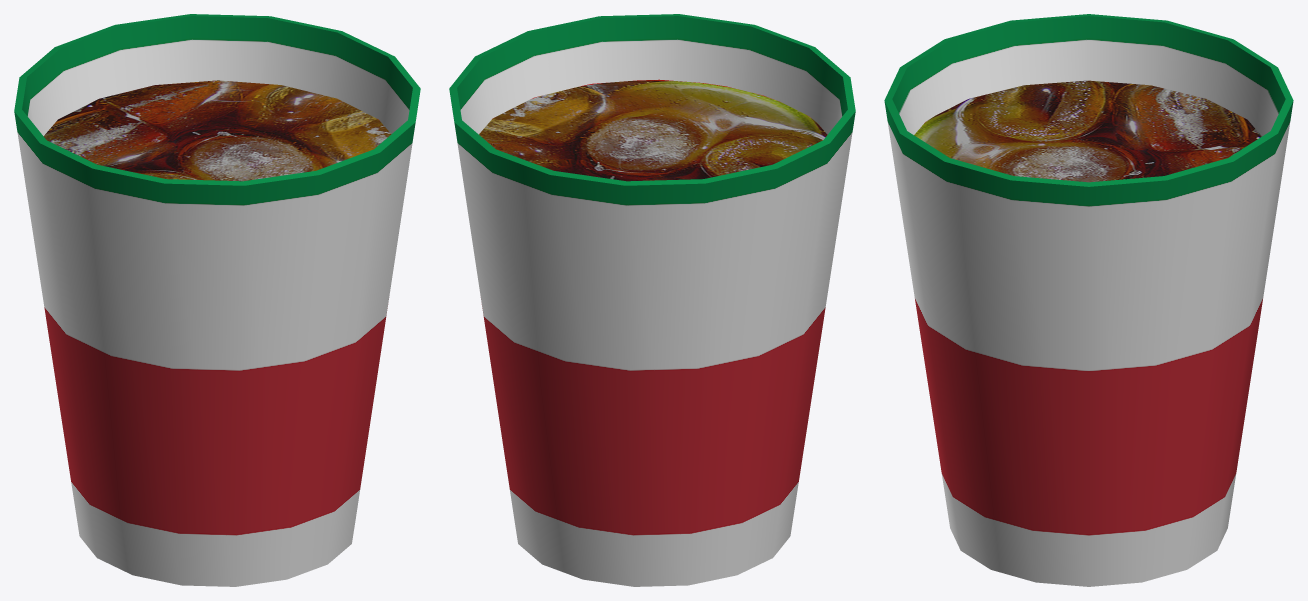
The model's file is paper cup.FBX.
The picture shows the model from 3 angles, left to right: view 1: azimuth 30°, elevation 25°; view 2: azimuth 150°, elevation 25°; view 3: azimuth 270°, elevation 25°; orthographic projection.
Visible parts, largest first — view 1: paper cup; view 2: paper cup; view 3: paper cup.
Part boxes in pixels (left/top/right/bottom): paper cup: left=14, top=14, right=420, bottom=586; paper cup: left=449, top=14, right=855, bottom=586; paper cup: left=884, top=14, right=1293, bottom=586.
Bounding box in the file's own units: 3.59 × 3.59 × 4.18.
1 material, 1 textured.
